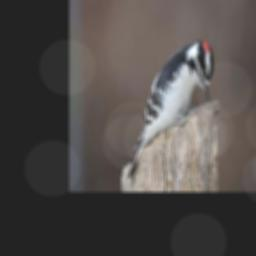Woodpecker: (126, 37, 215, 181)
